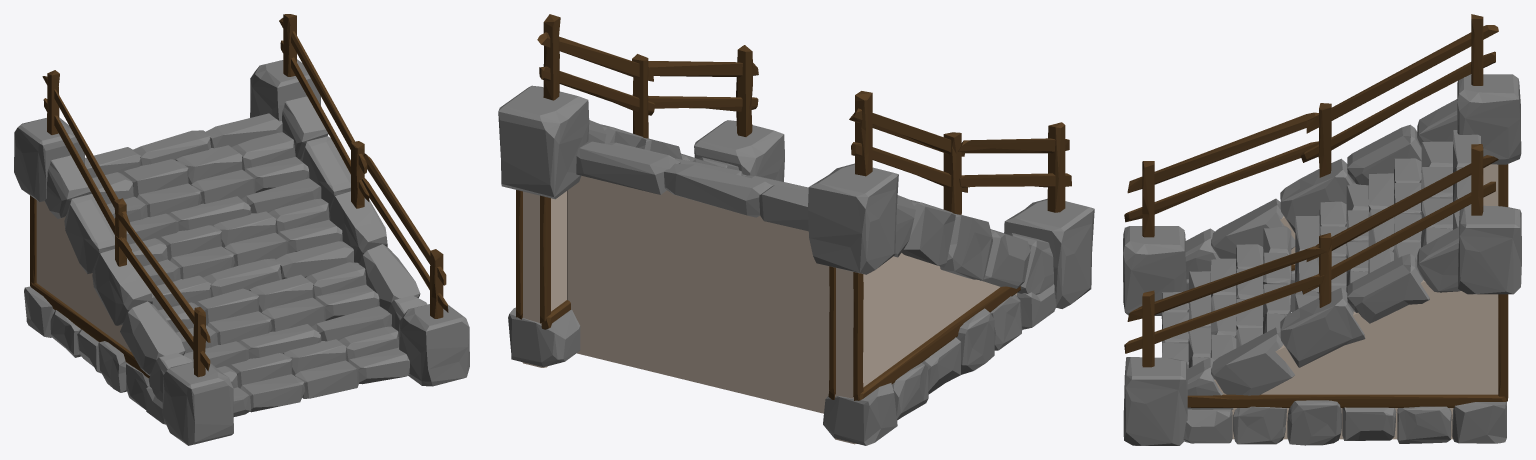
File: SM_staircase.fbx
3 views of the same model, side by side, from view 1: azimuth 30°, elevation 25°; view 2: azimuth 150°, elevation 25°; view 3: azimuth 270°, elevation 25° (orthographic). The views are drawn at different scales.
Visible parts, largest first — view 1: Object2173; view 2: Object2173; view 3: Object2173.
Part boxes in pixels (left/top/right/bottom): Object2173: left=14, top=14, right=469, bottom=445; Object2173: left=498, top=14, right=1094, bottom=445; Object2173: left=1123, top=14, right=1521, bottom=445.
Size of the model in its own units: 193 by 169 by 211.
